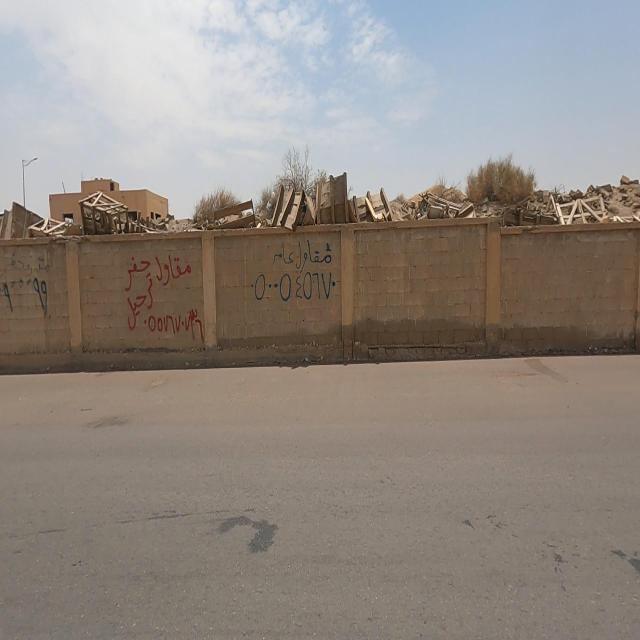Graffiti: (123, 254, 206, 343), (246, 240, 336, 302), (2, 253, 50, 316)
